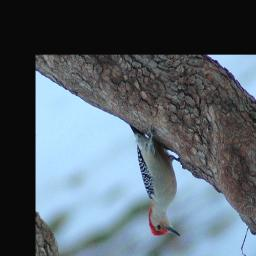Woodpecker: (128, 122, 183, 238)
